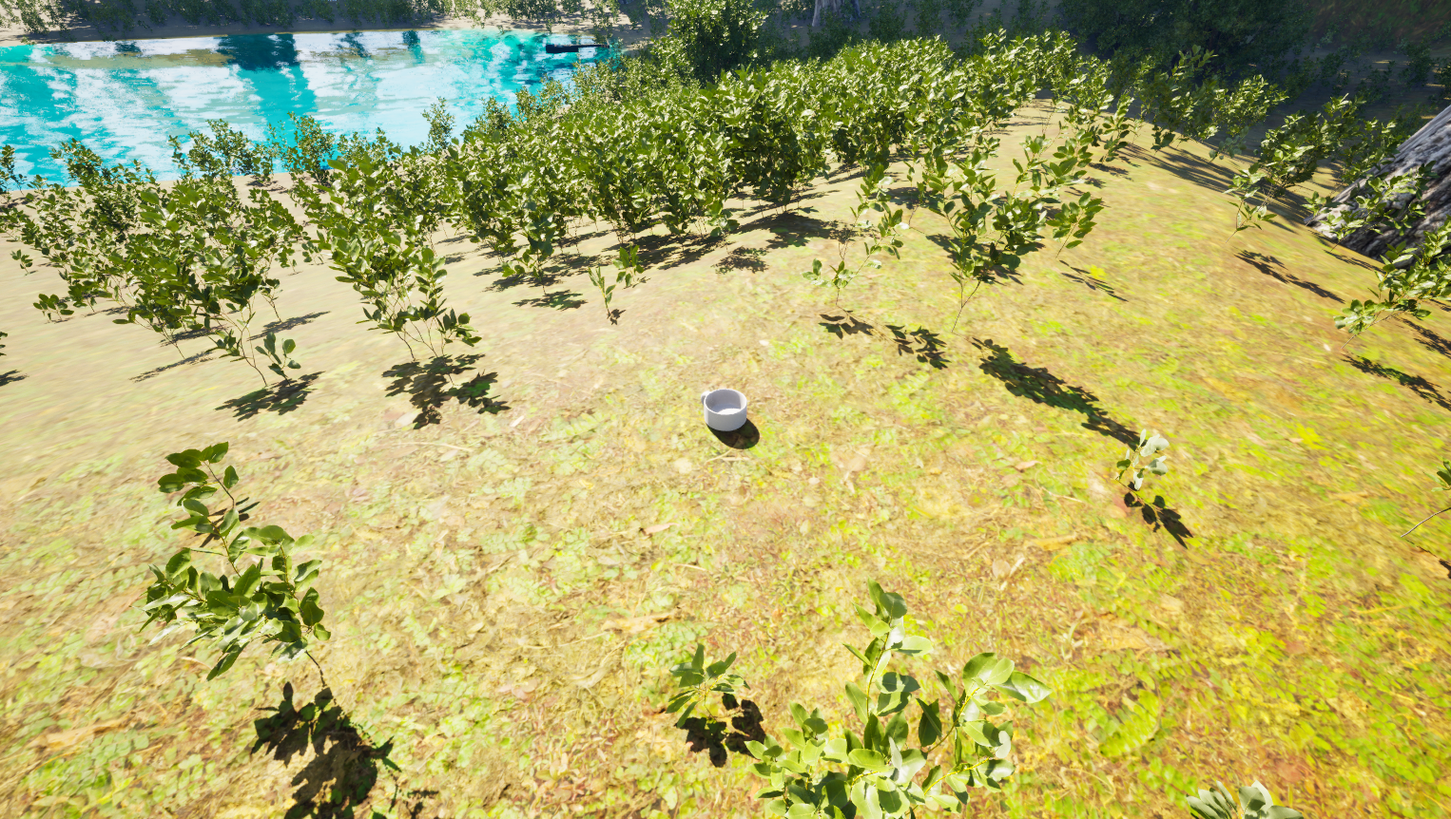Teacup: (699, 382, 752, 434)
